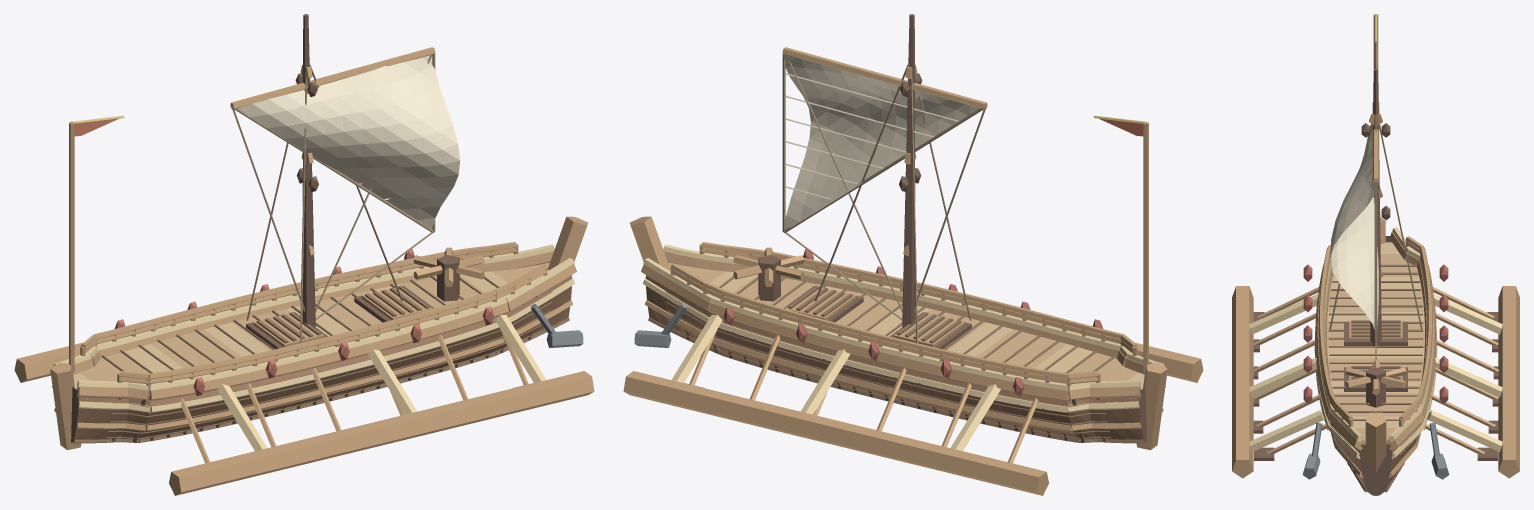
File: prau-v5-mobile.glb
The picture shows the model from 3 angles, left to right: view 1: azimuth 30°, elevation 25°; view 2: azimuth 150°, elevation 25°; view 3: azimuth 270°, elevation 25°; orthographic projection. The views are drawn at different scales.
Parts seen in each view (by area): view 1: prau_sails_sail, prau_oars_wood, prau_hull_wood, prau_railings_wood, prau_hull_pale, prau_hull_seam, prau_hull_deck, prau_hull_hull2, prau_hull_hull, prau_hull_decklight, prau_oars_pale, prau_fittings_wood (+10 smaller); view 2: prau_oars_wood, prau_sails_sail, prau_hull_wood, prau_railings_wood, prau_hull_pale, prau_hull_seam, prau_hull_deck, prau_hull_hull2, prau_hull_hull, prau_hull_decklight, prau_masts_darkwood, prau_rigging_rope (+11 smaller); view 3: prau_oars_wood, prau_sails_sail, prau_hull_deck, prau_oars_pale, prau_hull_wood, prau_hull_decklight, prau_hull_seam, prau_railings_wood, prau_hull_pale, prau_fittings_darkwood, prau_fittings_wood, prau_masts_darkwood (+9 smaller).
Boxes of the visible parts, box(x1,y1,x2,y2) form: prau_sails_sail: box(238, 55, 460, 228); prau_oars_wood: box(14, 328, 594, 495); prau_hull_wood: box(50, 216, 587, 450); prau_railings_wood: box(80, 242, 547, 395); prau_hull_pale: box(52, 244, 575, 412); prau_hull_seam: box(73, 276, 569, 443); prau_hull_deck: box(80, 262, 549, 397); prau_hull_hull2: box(74, 262, 572, 440); prau_hull_hull: box(71, 286, 571, 442); prau_hull_decklight: box(73, 271, 507, 398); prau_oars_pale: box(217, 315, 546, 450); prau_fittings_wood: box(253, 247, 484, 346); prau_oars_wood: box(623, 328, 1203, 495); prau_sails_sail: box(783, 53, 979, 229); prau_hull_wood: box(630, 216, 1167, 450); prau_railings_wood: box(670, 242, 1137, 395); prau_hull_pale: box(642, 244, 1165, 412); prau_hull_seam: box(648, 276, 1144, 443); prau_hull_deck: box(668, 262, 1137, 397); prau_hull_hull2: box(645, 262, 1143, 440); prau_hull_hull: box(646, 286, 1146, 442); prau_hull_decklight: box(710, 271, 1144, 398); prau_masts_darkwood: box(899, 14, 922, 327); prau_rigging_rope: box(782, 53, 986, 320); prau_oars_wood: box(1232, 286, 1519, 478); prau_sails_sail: box(1330, 123, 1378, 329); prau_hull_deck: box(1327, 254, 1424, 442); prau_oars_pale: box(1249, 293, 1502, 451); prau_hull_wood: box(1315, 217, 1436, 477); prau_hull_decklight: box(1327, 242, 1424, 427); prau_hull_seam: box(1327, 264, 1424, 492); prau_railings_wood: box(1319, 236, 1432, 426); prau_hull_pale: box(1314, 227, 1437, 458); prau_fittings_darkwood: box(1344, 321, 1407, 407); prau_fittings_wood: box(1345, 321, 1406, 395); prau_masts_darkwood: box(1361, 69, 1390, 345).
Size of the model in its own units: 33.13 by 22.31 by 17.9.
